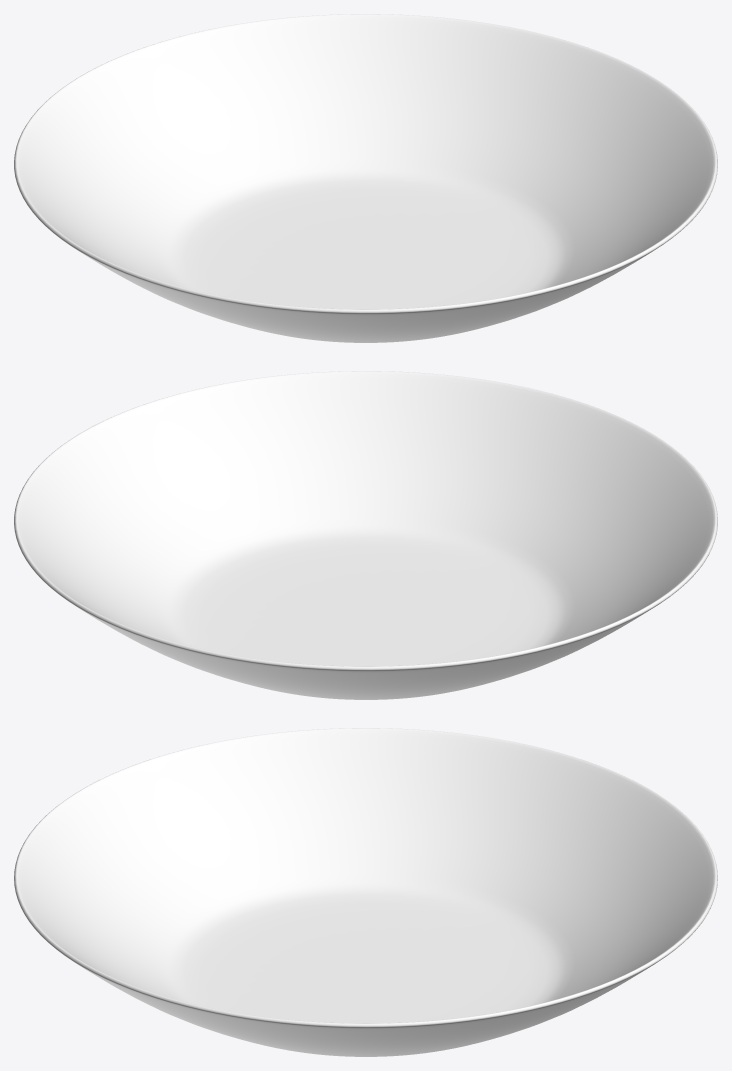
File: deep_plate.gltf
3 views of the same model, one above another, from view 1: azimuth 30°, elevation 25°; view 2: azimuth 150°, elevation 25°; view 3: azimuth 270°, elevation 25° (orthographic).
Parts seen in each view (by area): view 1: Sphere; view 2: Sphere; view 3: Sphere.
Part boxes in pixels (x1=…): Sphere: x1=14, y1=14, x2=717, y2=342; Sphere: x1=14, y1=371, x2=717, y2=699; Sphere: x1=14, y1=728, x2=717, y2=1056.
Size of the model in its own units: 1.4 by 0.2224 by 1.4.
